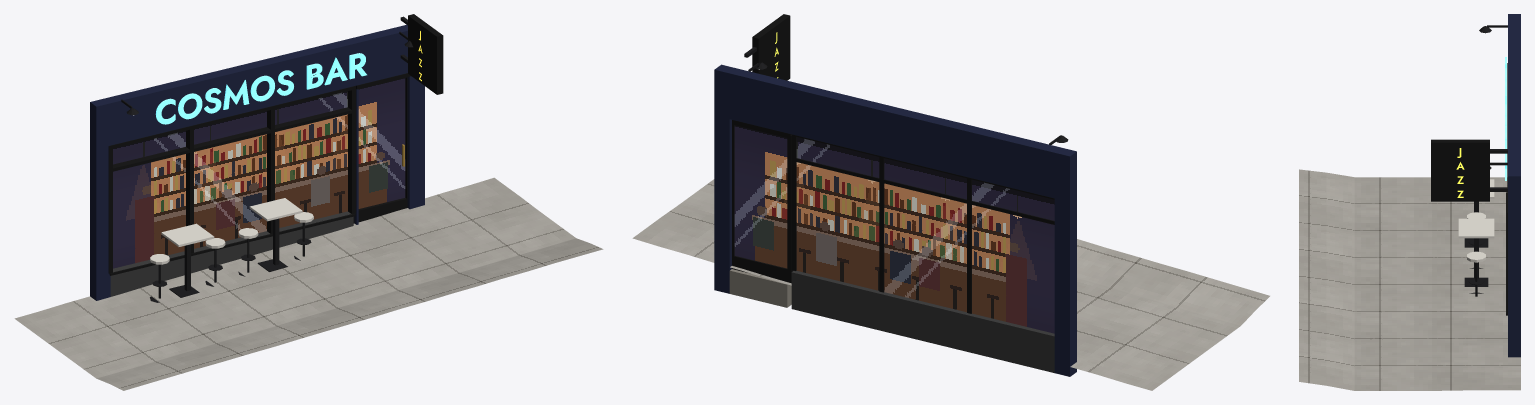
Rendered from cosmos_bar.glb.
3 views of the same model, side by side, from view 1: azimuth 30°, elevation 25°; view 2: azimuth 150°, elevation 25°; view 3: azimuth 270°, elevation 25° (orthographic). The views are drawn at different scales.
Visible parts, largest first — view 1: CosmosBar; view 2: CosmosBar; view 3: CosmosBar.
Boxes of the visible parts, x1,y1,x2,y2 form: CosmosBar: [14, 14, 603, 390]; CosmosBar: [632, 14, 1269, 390]; CosmosBar: [1299, 14, 1520, 390].
Size of what is drawn, in the model's own units: 9.5 by 4.3 by 3.75.
13 materials, 2 textured.
